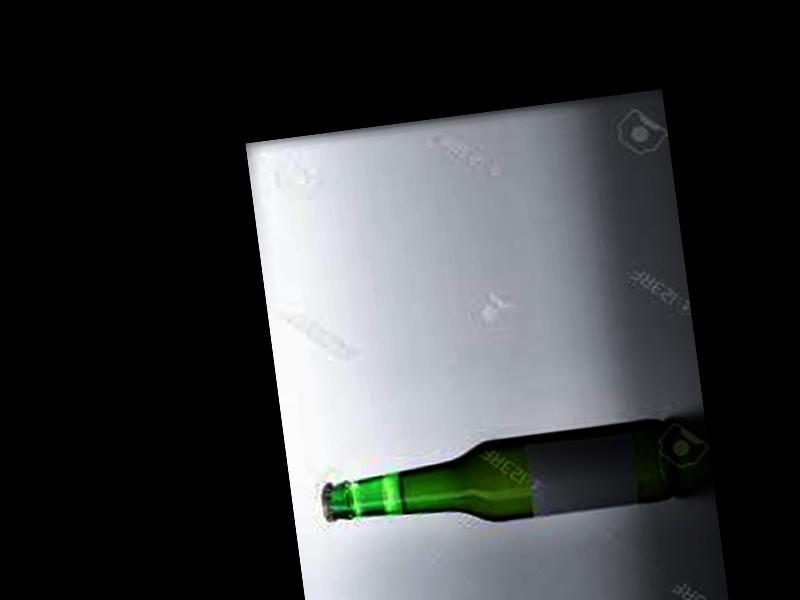Beer: (317, 417, 677, 545)
